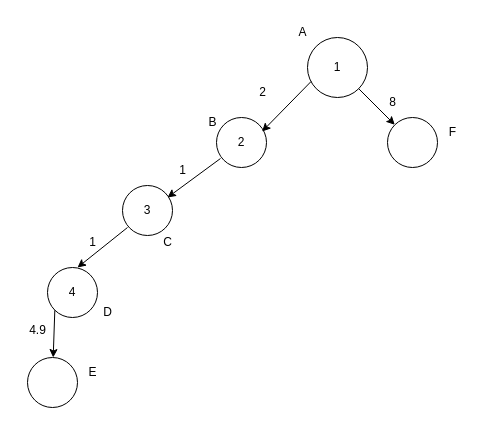
Some shapes in this 484 by 425 pixel diagram are drawn without their labels. Here are the shapes that lost their labels. From the top down, the centre of each, then its label:
the point at 412,142: 0 (Goal
the point at 52,382: 0 (Goal)
